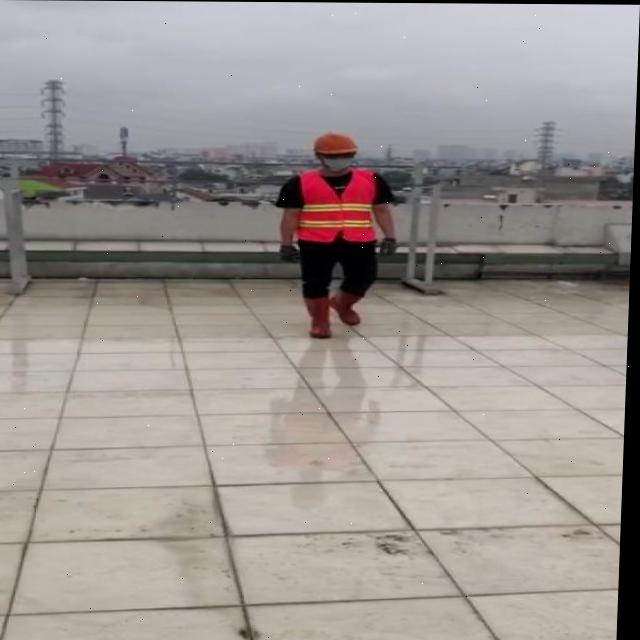Gloves: (280, 243, 301, 261), (381, 237, 398, 254)
Helmet: (314, 131, 359, 175)
Safety-Boot: (305, 293, 335, 337), (331, 289, 365, 324)
Safety-Vest: (296, 167, 379, 242)
